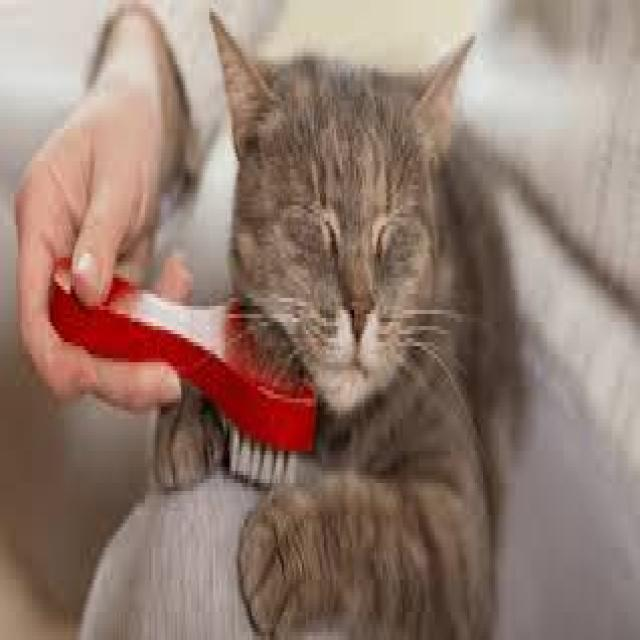Cat: (201, 3, 481, 430)
